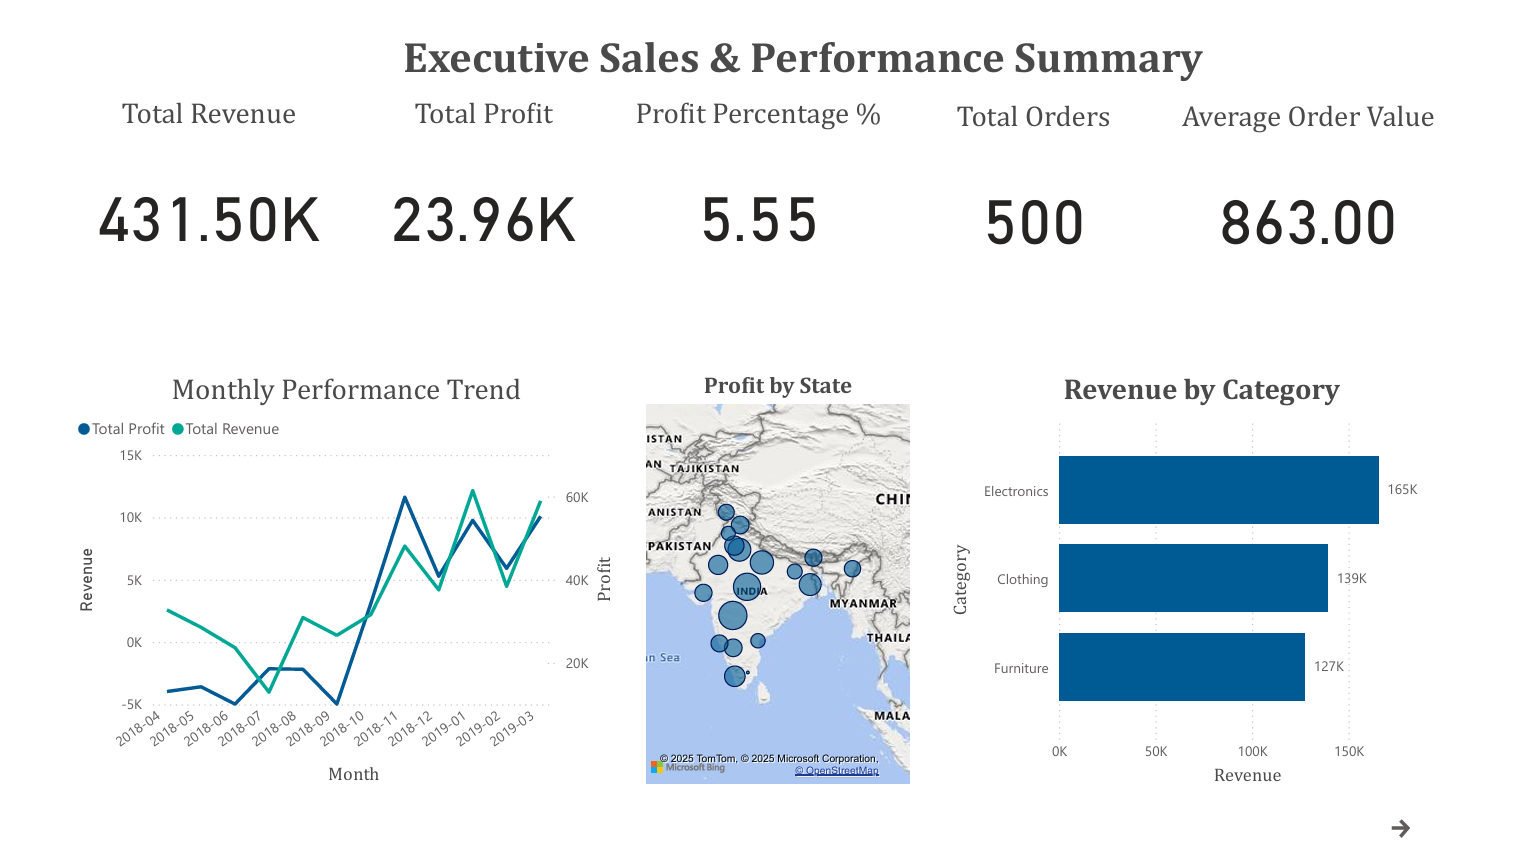

Layout of this report page (visuals, bound fields, positions):
{"tool":"powerbi","page":{"name":"Executive Sales & Performance Summary","canvas":[1280,720],"ordinal":0},"visuals":[{"type":"textbox","box":[240.1,0,878.2,60.4],"z":0},{"type":"card","title":"Total Revenue","fields":{"Values":["Sum(public kpi_overview.total_revenue)"]},"box":[39.8,60.4,240.1,171.5],"z":1000},{"type":"card","title":"Total Profit","fields":{"Values":["Sum(public kpi_overview.total_profit)"]},"box":[279.9,60.4,240.1,171.5],"z":2000},{"type":"card","title":"Profit Percentage %","fields":{"Values":["Sum(public kpi_overview.profit_margin_percentage)"]},"box":[520.1,60.4,240.1,171.5],"z":3000},{"type":"card","title":"Total Orders","fields":{"Values":["Sum(public kpi_overview.total_orders)"]},"box":[760.2,63.1,240.1,171.5],"z":4000},{"type":"card","title":"Average Order Value","fields":{"Values":["public kpi_overview.Average Order Value"]},"box":[1000.3,63.1,240.1,171.5],"z":5000},{"type":"map","title":"Profit by State","fields":{"Category":["public regional_performance.state"],"Size":["Sum(public regional_performance.total_profit)"]},"box":[537.1,301.4,240,364.3],"z":6000},{"type":"barChart","title":"Revenue by Category","fields":{"Category":["public category_performance.category"],"Y":["Sum(public category_performance.total_revenue)"]},"box":[802.9,301.4,448.6,364.3],"z":7000},{"type":"lineChart","title":"Monthly Performance Trend","fields":{"Category":["public monthly_performance.month"],"Y":["Sum(public monthly_performance.total_profit)"],"Y2":["Sum(public monthly_performance.total_revenue)"]},"box":[40,301.4,480,364.3],"z":8000},{"type":"actionButton","box":[1180,680,100,40],"z":8001}]}

Visuals, with their boxes in screenshot pixels (x1, y1, x2, y2), scaled from the page's 1280x720 canvas onto the 1518x862 screenshot:
textbox: l=285, t=0, r=1326, b=72
"Total Revenue" card: l=47, t=72, r=332, b=278
"Total Profit" card: l=332, t=72, r=617, b=278
"Profit Percentage %" card: l=617, t=72, r=902, b=278
"Total Orders" card: l=902, t=76, r=1186, b=281
"Average Order Value" card: l=1186, t=76, r=1471, b=281
"Profit by State" map: l=637, t=361, r=922, b=797
"Revenue by Category" barChart: l=952, t=361, r=1484, b=797
"Monthly Performance Trend" lineChart: l=47, t=361, r=617, b=797
actionButton: l=1399, t=814, r=1517, b=861
